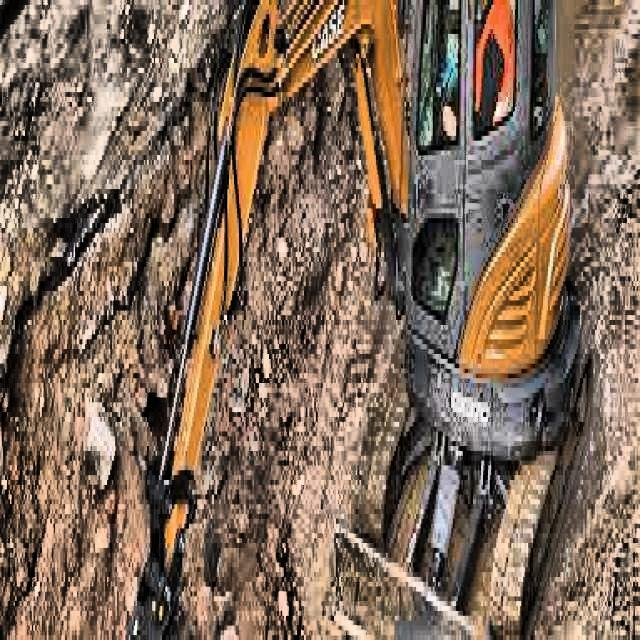bull_dozer/loader/grader: (124, 0, 595, 640)
person: (458, 0, 517, 126)
